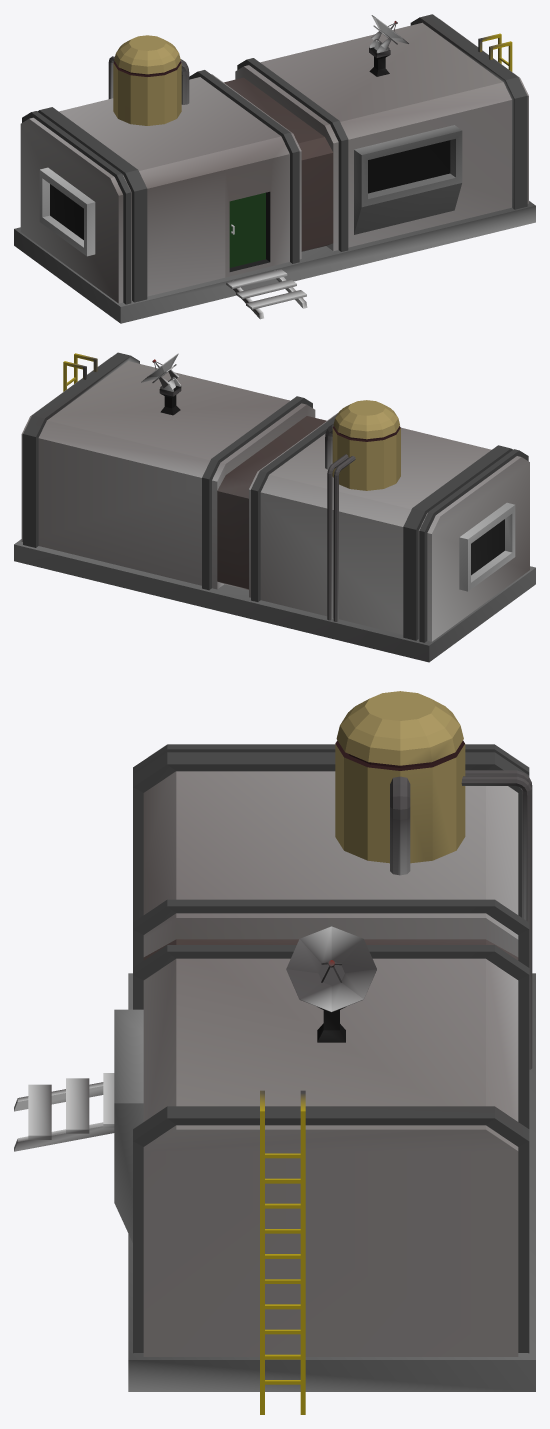
Rendered from edificacao7-1.fbx.
3 views of the same model, one above another, from view 1: azimuth 30°, elevation 25°; view 2: azimuth 150°, elevation 25°; view 3: azimuth 270°, elevation 25° (orthographic). The views are drawn at different scales.
Visible parts, largest first — view 1: edificacao7-1; view 2: edificacao7-1; view 3: edificacao7-1.
Part boxes in pixels (x1,y1,x2,y2): edificacao7-1: (14,14,535,323); edificacao7-1: (14,352,535,662); edificacao7-1: (14,691,535,1414).
Size of the model in its own units: 1423 by 664 by 779.
